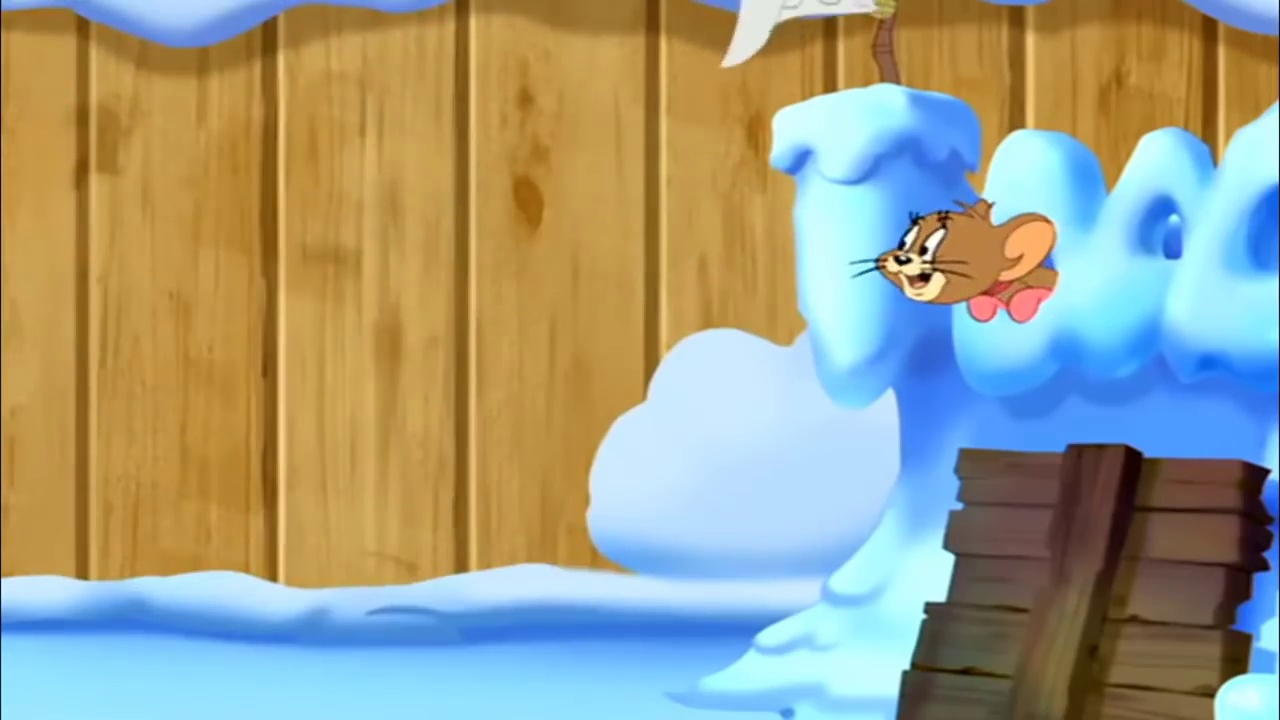face: (879, 211, 976, 303)
